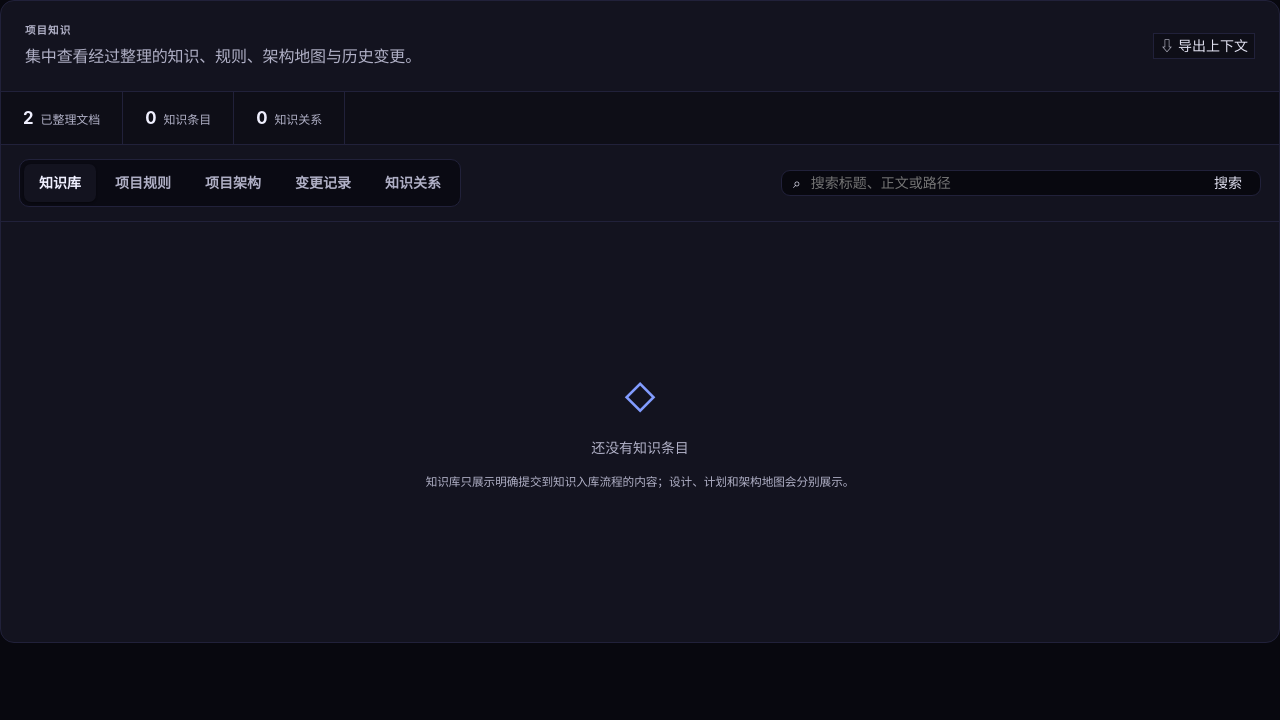
Test case: ProjectSemanticPanels › groups archived plans under one readable change record and shows remote durability
Expected: the text "还没有知识条目" is shown, [591,437,689,459]
Click the tab "变更记录" at (323, 183), box [280,164,366,202]
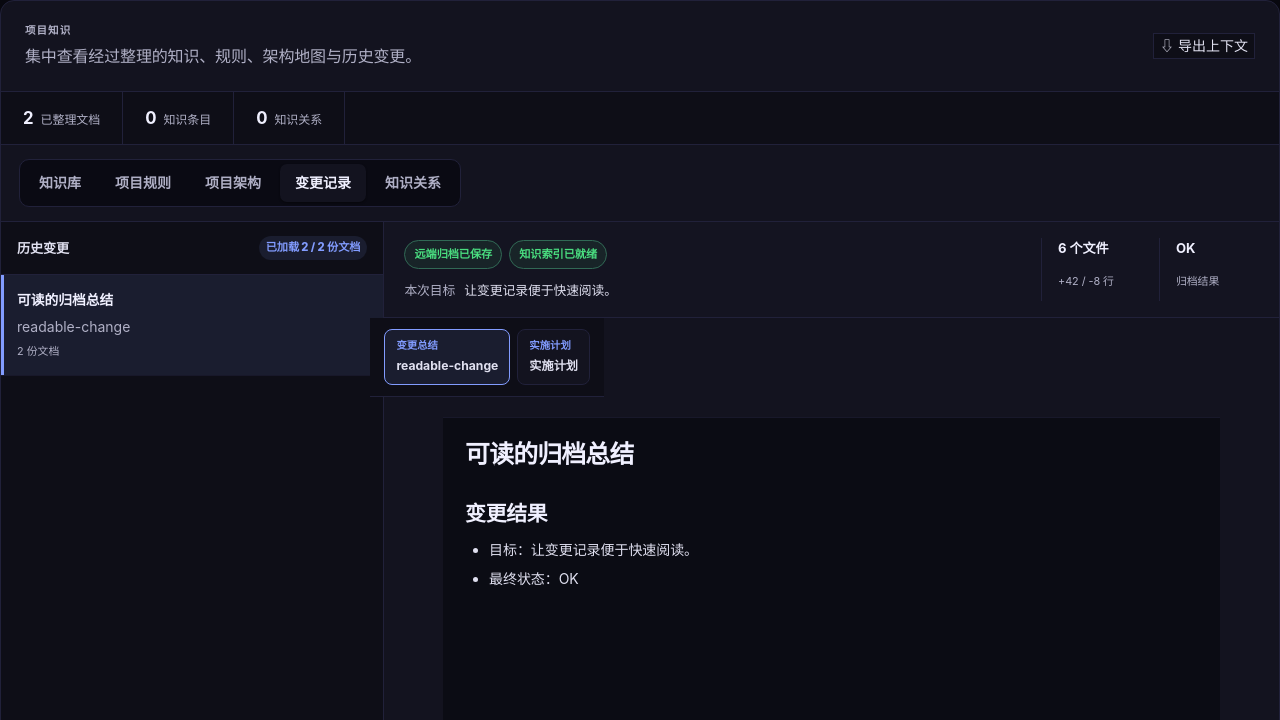
Result: the heading "可读的归档总结" is shown at [465,439,634,469]
Result: the text "远端归档已保存" is shown at [404,240,502,270]
Result: the text "知识索引已就绪" is shown at [509,240,607,270]
Click the button "实施计划 实施计划" at (554, 357), box [517,329,590,385]
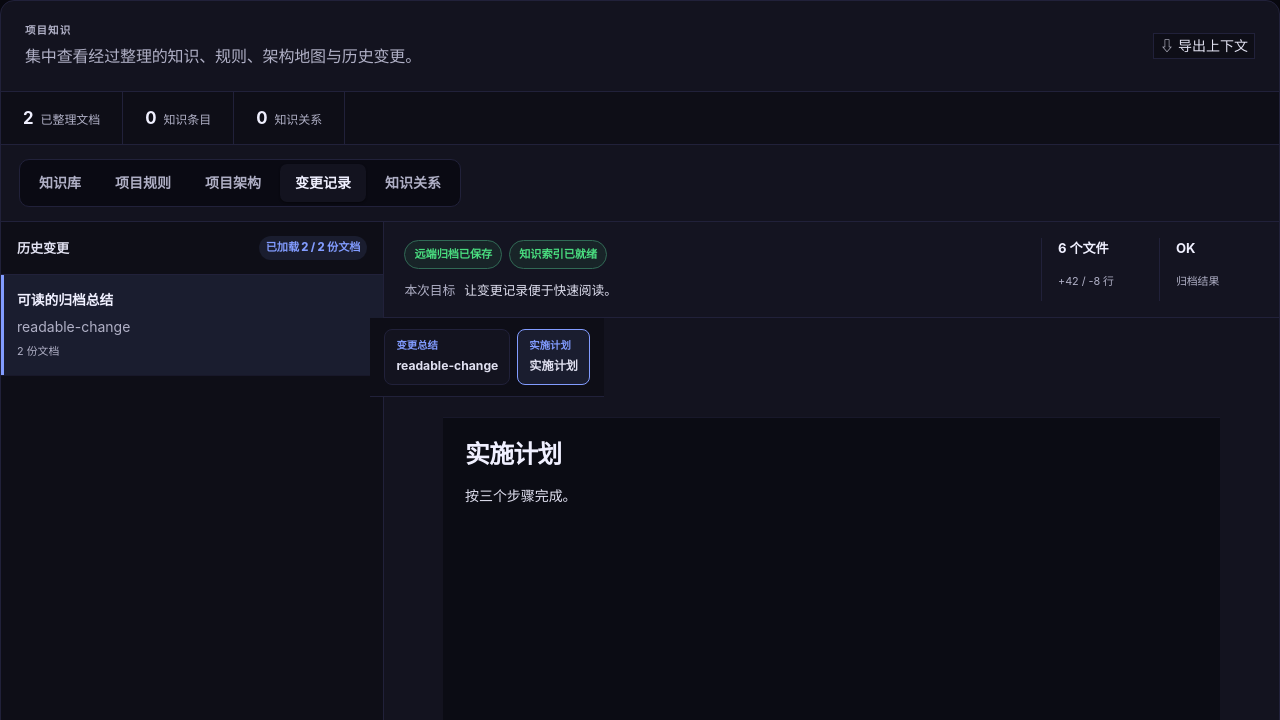
Result: the heading "实施计划" is shown at [465,439,561,469]
Result: the text "按三个步骤完成。" is shown at [465,487,577,504]
